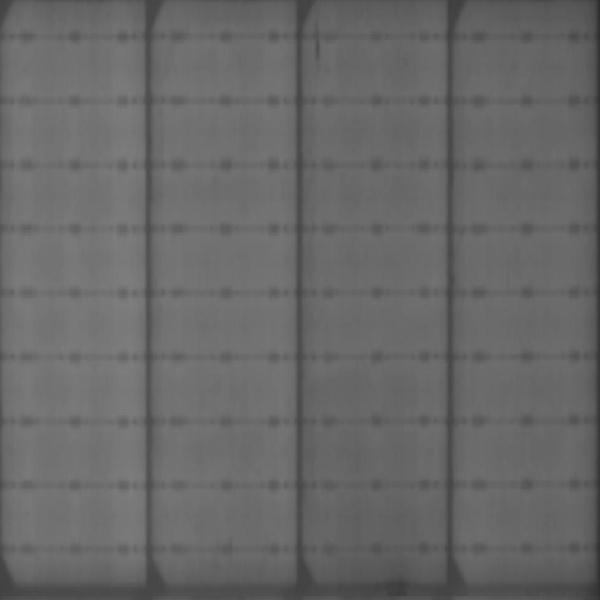scratch: (310, 24, 329, 66)
